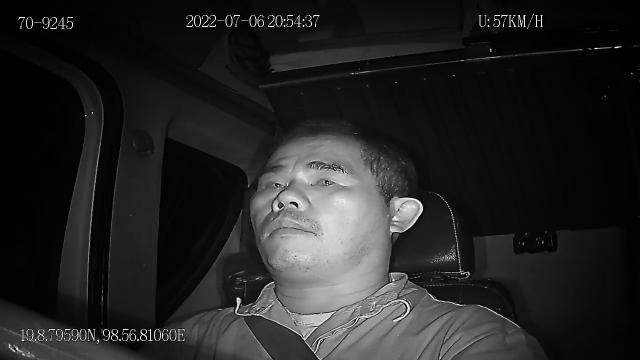SafeDriving: (303, 162, 349, 192)
Seatbelt: (221, 268, 323, 360)
